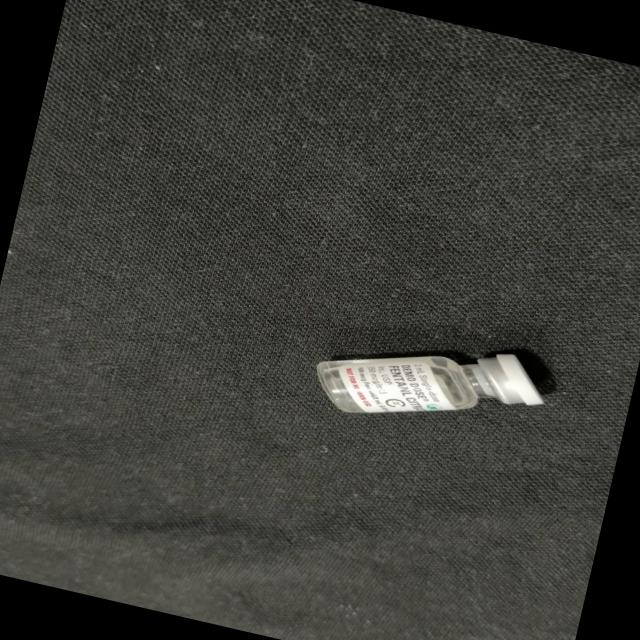fentanl_citrat: (310, 312, 550, 453)
